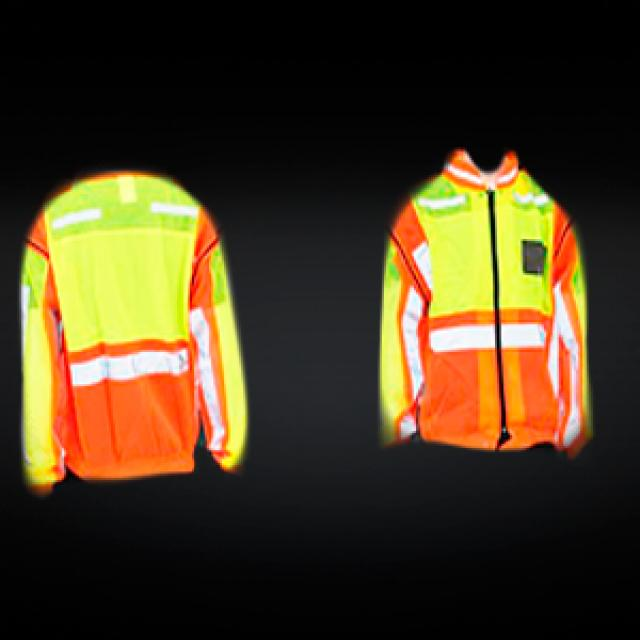Reflective-Jacket: (7, 166, 260, 486), (369, 149, 619, 461)
